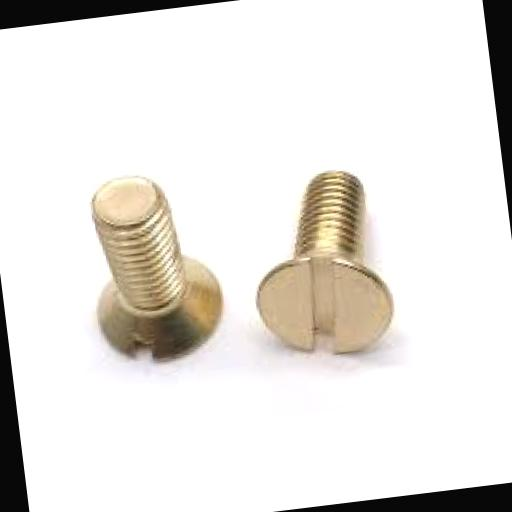Slotted: (252, 246, 402, 370)
